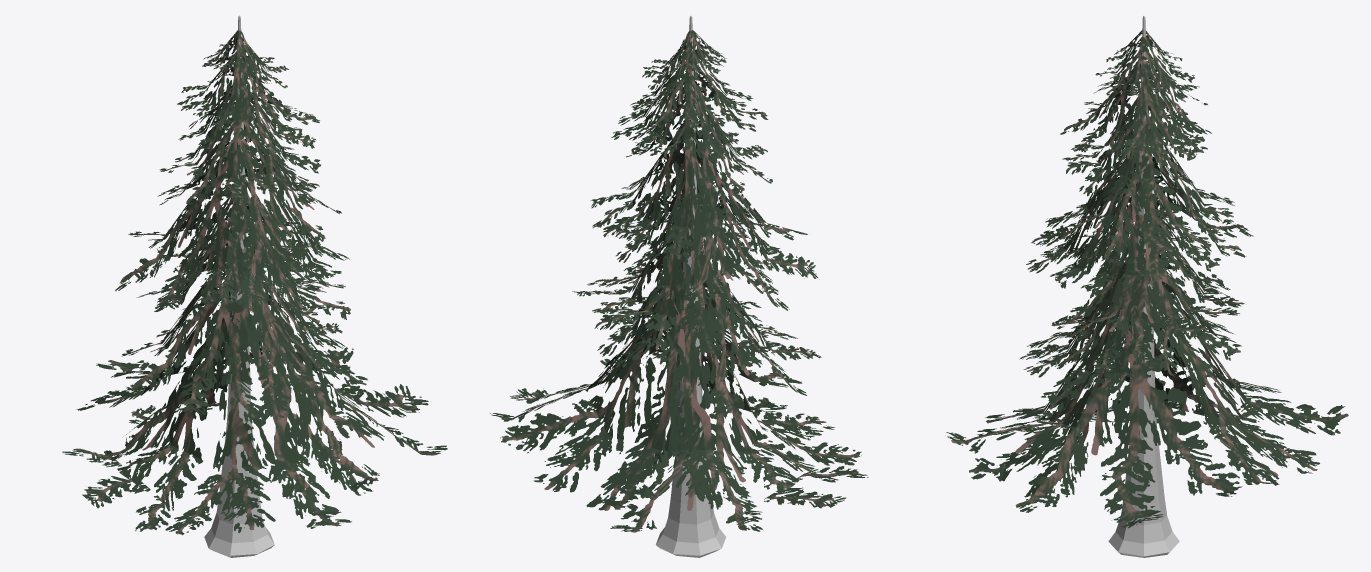
Rendered from Snowy tree.fbx.
The picture shows the model from 3 angles, left to right: view 1: azimuth 30°, elevation 25°; view 2: azimuth 150°, elevation 25°; view 3: azimuth 270°, elevation 25°; orthographic projection.
Parts seen in each view (by area): view 1: Cone.010, Plane; view 2: Cone.010, Plane; view 3: Cone.010, Plane.
Part boxes in pixels (box(x1,y1,x2,y2)): Cone.010: box(62, 30, 447, 535); Plane: box(204, 15, 274, 557); Cone.010: box(490, 30, 868, 532); Plane: box(656, 16, 725, 557); Cone.010: box(946, 30, 1348, 528); Plane: box(1108, 16, 1179, 557).
Size of the model in its own units: 1219 by 1830 by 1341.
